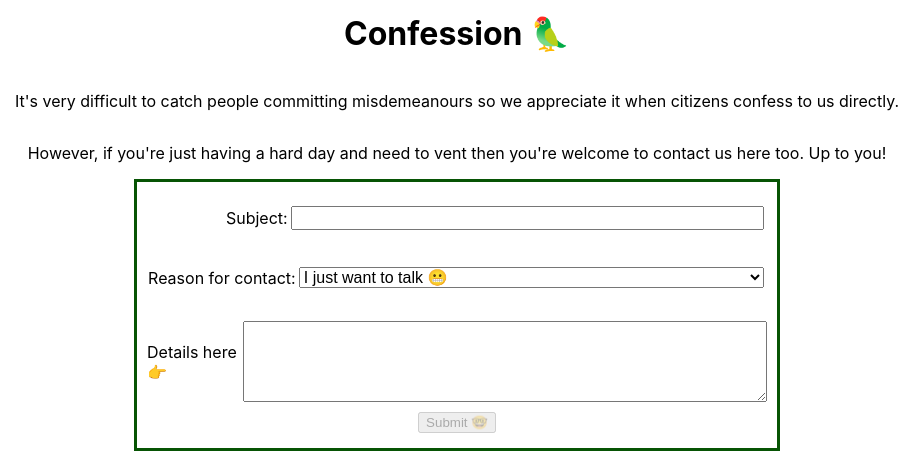
Confession form › submit enabled
This screenshot has width=915, height=468.
Type "This is subject" into the field labelled "Subject:" at (527, 218), box x1=291 y1=206 x2=764 y2=230
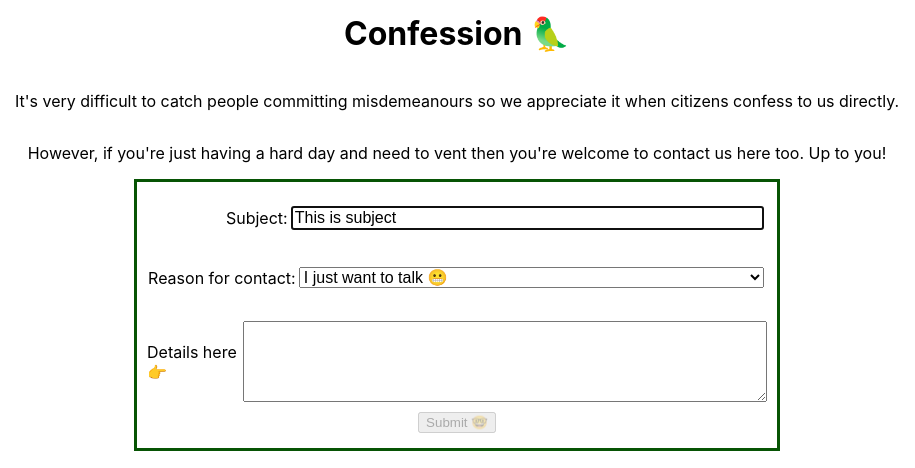
Type "This is details xx xnnxnx nxnnxnx" into the text box labelled "Details here 👉" at (505, 362), box x1=242 y1=321 x2=767 y2=402
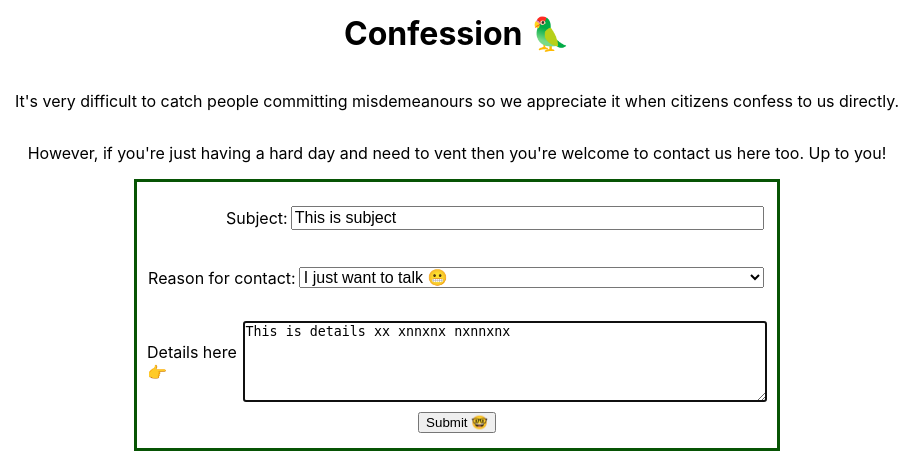
Expected: the button "Submit 🤓" is enabled, x1=418 y1=412 x2=496 y2=433
